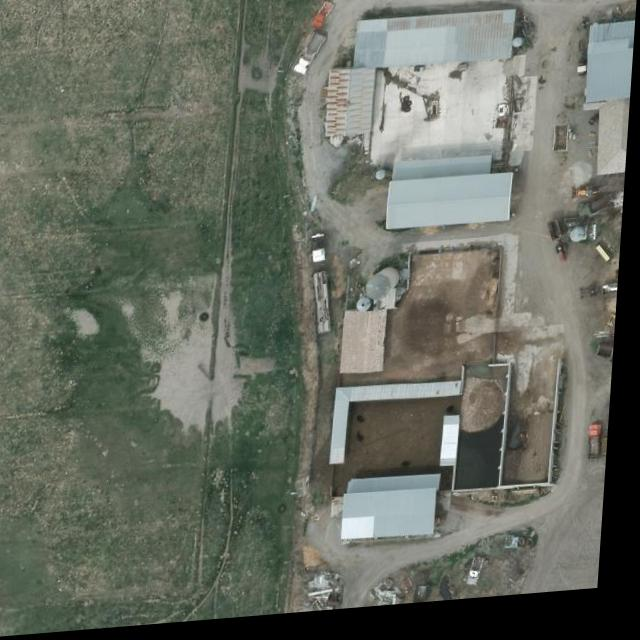vehicle: (292, 37, 328, 82), (468, 561, 501, 598), (581, 209, 618, 230), (312, 5, 336, 37), (593, 435, 610, 473)
